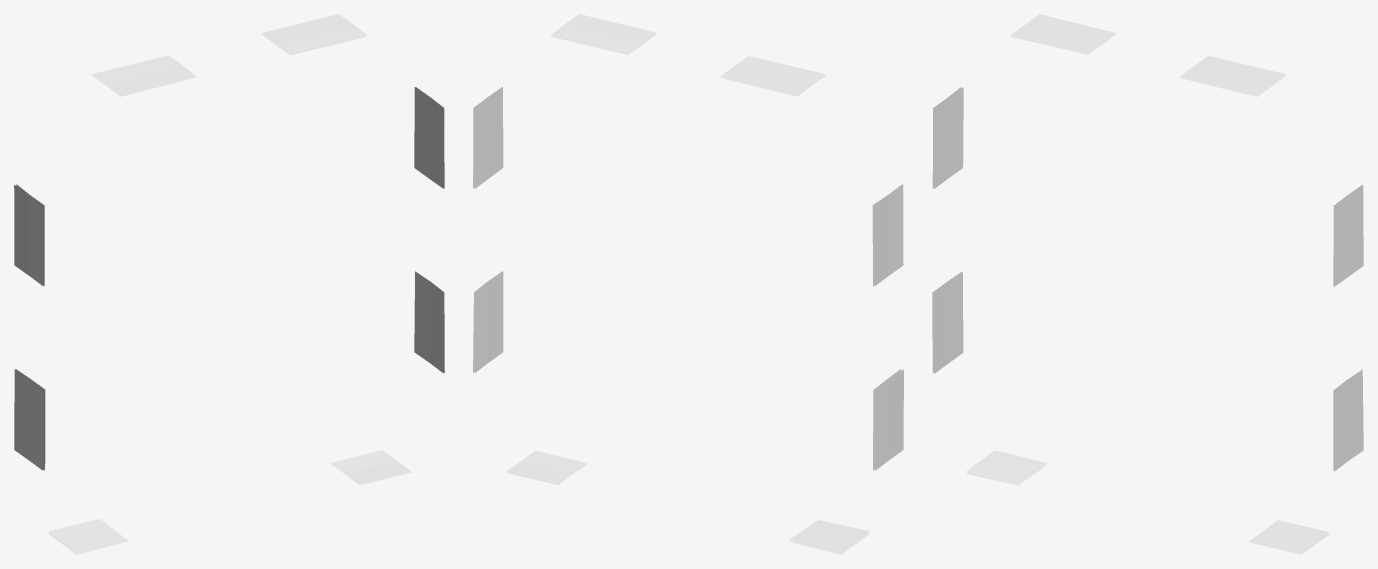
Rendered from ShopGlass.glb.
3 renders of one model, left to right at view 1: azimuth 30°, elevation 25°; view 2: azimuth 150°, elevation 25°; view 3: azimuth 330°, elevation 25°, orthographic.
Visible parts, largest first — view 1: ShopGlass; view 2: ShopGlass; view 3: ShopGlass.
Part boxes in pixels (<box>): ShopGlass: <box>14,14,444,554</box>; ShopGlass: <box>473,14,903,554</box>; ShopGlass: <box>932,14,1363,554</box>.
Size of the model in its own units: 5.93 by 6.33 by 0.74.
Materials: 1 (1 with a texture image).
